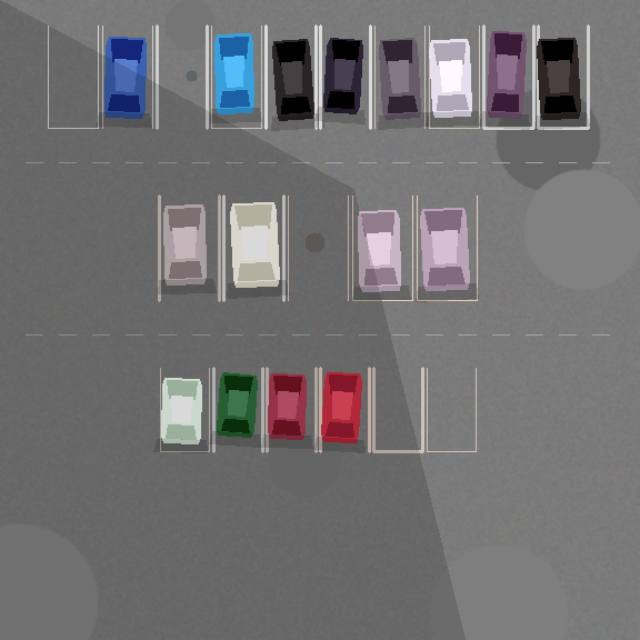space-empty: (288, 196, 348, 300), (48, 26, 98, 128), (157, 26, 207, 128), (373, 368, 422, 451), (427, 368, 476, 451)
space-occupied: (159, 196, 219, 300), (223, 196, 283, 300), (352, 196, 412, 300), (417, 196, 477, 300), (102, 26, 152, 128), (211, 26, 261, 128), (266, 26, 316, 128), (320, 26, 370, 128), (374, 26, 424, 128), (429, 26, 479, 128), (483, 26, 533, 128), (538, 26, 588, 128), (160, 368, 209, 451), (213, 368, 262, 451), (267, 368, 316, 451), (320, 368, 369, 451)
